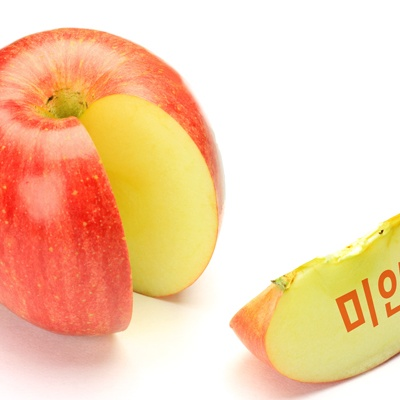apple: (1, 23, 225, 334)
